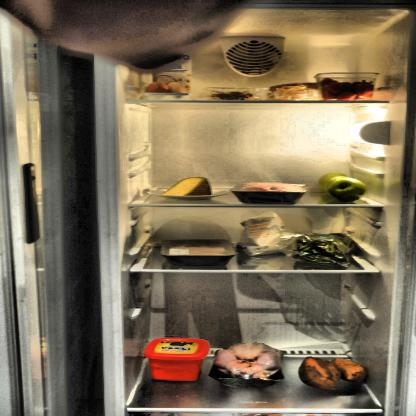apple: (316, 170, 367, 203)
butter: (144, 337, 209, 381)
cheese: (161, 176, 213, 200)
chicken: (212, 342, 286, 381), (165, 243, 229, 263)
eggs: (143, 80, 190, 99)
green_beans: (290, 231, 364, 268)
ground_beef: (234, 181, 304, 202)
milk: (150, 40, 191, 96)
shrimp: (206, 89, 266, 101)
strawberries: (320, 76, 376, 102)
sweet_potato: (298, 354, 370, 391)
